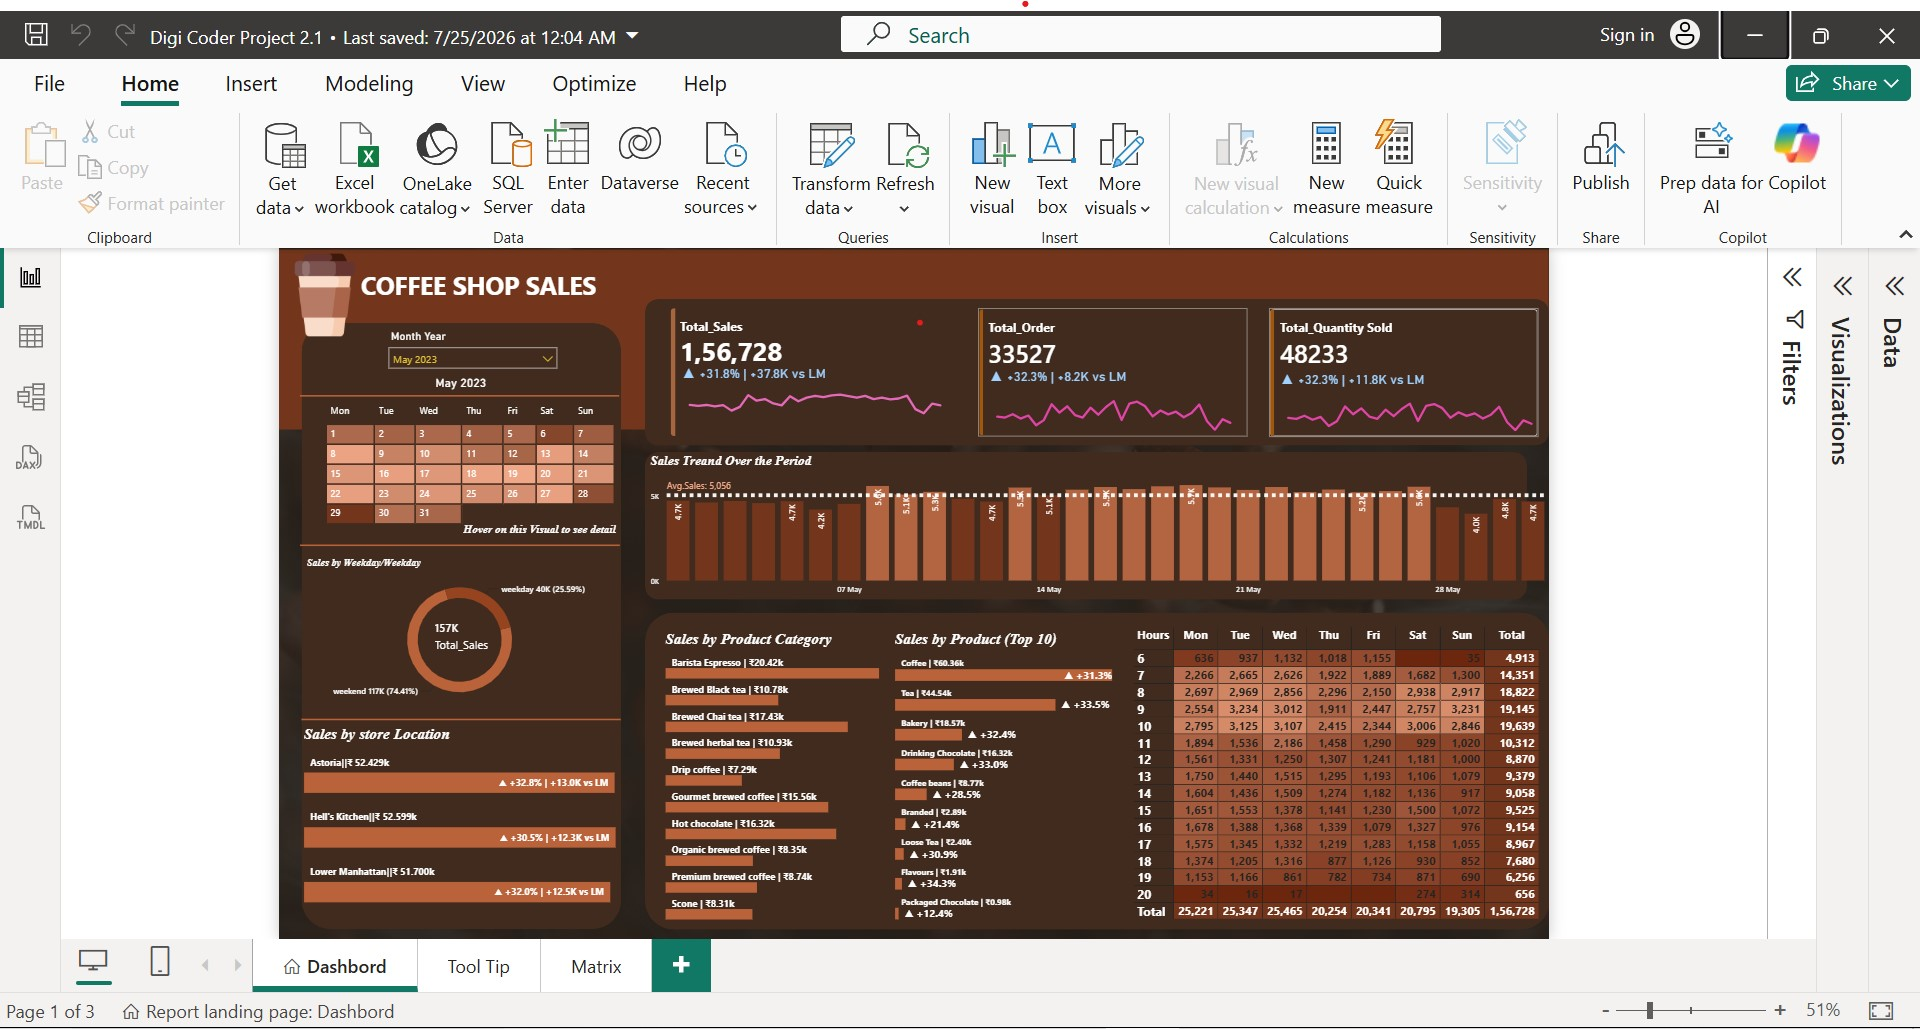

The dashboard page shown, as its layout file describes it:
{"tool":"powerbi","page":{"name":"Dashbord","canvas":[1658,902],"ordinal":0},"visuals":[{"type":"shape","box":[0,2.5,1657.5,235],"z":0},{"type":"shape","box":[28.8,98.8,417.5,791.2],"z":1000},{"type":"shape","box":[477.5,66.2,1180,191.2],"z":2000},{"type":"textbox","box":[102.5,22.5,337.5,57.5],"z":3000},{"type":"cardVisual","fields":{"Data":["Transaction.Total_Sales"]},"box":[498.8,66.2,383.8,191.2],"z":4000,"group":"g1"},{"type":"cardVisual","fields":{"Data":["Transaction.Total_Order"]},"box":[900,66.2,375,191.2],"z":4000,"group":"g2"},{"type":"cardVisual","fields":{"Data":["Transaction.Total_Quantity Sold"]},"box":[1281.2,66.2,375.2,192.4],"z":4000,"group":"g3"},{"type":"slicer","fields":{"Values":["Date_Table.Month Year"]},"box":[133.8,102.5,240,60],"z":4000},{"type":"group","id":"g1","title":"Group 1","box":[498.8,66.2,383.8,191.2],"z":5000},{"type":"group","id":"g2","title":"Group 1","box":[900,66.2,375,191.2],"z":6000},{"type":"lineChart","fields":{"Category":["Date_Table.Date.Variation.Date Hierarchy.Year","Date_Table.Date.Variation.Date Hierarchy.Quarter","Date_Table.Date.Variation.Date Hierarchy.Month","Date_Table.Date.Variation.Date Hierarchy.Day"],"Y":["Transaction.Total_Sales"]},"box":[520.8,152.7,357.3,82.6],"z":6000,"group":"g1"},{"type":"lineChart","fields":{"Category":["Date_Table.Date.Variation.Date Hierarchy.Year","Date_Table.Date.Variation.Date Hierarchy.Quarter","Date_Table.Date.Variation.Date Hierarchy.Month","Date_Table.Date.Variation.Date Hierarchy.Day"],"Y":["Transaction.Total_Order"]},"box":[921.1,156.3,334.3,87.1],"z":6000,"group":"g2"},{"type":"lineChart","fields":{"Category":["Date_Table.Date.Variation.Date Hierarchy.Year","Date_Table.Date.Variation.Date Hierarchy.Quarter","Date_Table.Date.Variation.Date Hierarchy.Month","Date_Table.Date.Variation.Date Hierarchy.Day"],"Y":["Transaction.Total_Order"]},"box":[1302.9,159.5,347.6,83.6],"z":6000,"group":"g3"},{"type":"group","id":"g3","title":"Group 1","box":[1281.2,66.2,375,192.5],"z":7000},{"type":"pivotTable","fields":{"Rows":["Date_Table.Week_Number"],"Columns":["Date_Table.Day_Name"],"Values":["Min(Date_Table.Day_Number)"]},"box":[31.7,195.8,413.3,184.2],"z":8000},{"type":"image","box":[5,0,107.5,122.5],"z":9000},{"type":"donutChart","title":"Sales by Weekday/Weekday","fields":{"Category":["Date_Table.Weekday/Weekday"],"Y":["Transaction.Total_Sales"]},"box":[31.7,402.5,408.3,200.8],"z":10000},{"type":"cardVisual","fields":{"Data":["Transaction.Total_Sales"]},"box":[175,461.7,131.7,88.3],"z":11000},{"type":"card","fields":{"Values":["Min(Date_Table.Month Year)"]},"box":[196.7,161.7,82.5,26.7],"z":12000},{"type":"clusteredBarChart","title":"Sales by store Location","fields":{"Category":["Transaction.store_location"],"Y":["Transaction.Location","Transaction.Total_Sales"]},"box":[28.3,623.3,416.7,240],"z":13000},{"type":"shape","box":[478.6,267.1,1151.4,192.9],"z":14000},{"type":"clusteredColumnChart","title":"Sales Treand Over the Period","fields":{"Category":["Transaction.transaction_date"],"Y":["Transaction.Total_Sales"]},"box":[478.8,267.5,1178.8,192.5],"z":15000},{"type":"card","fields":{"Values":["Transaction.Note"]},"box":[234.2,354.2,210,25],"z":16000},{"type":"shape","box":[28.5,606.2,416.9,16.9],"z":17000},{"type":"shape","box":[28.3,187.5,416.7,10],"z":18000},{"type":"shape","box":[28.3,381.7,417.5,12.5],"z":19000},{"type":"shape","box":[477.5,476.2,1181,414],"z":19500},{"type":"clusteredBarChart","title":"Sales by Product (Top 10)","fields":{"Y":["Transaction.Location","Transaction.Total_Sales"],"Category":["Transaction.product_category"]},"box":[798.8,498.8,293.8,382.5],"z":20000},{"type":"clusteredBarChart","title":"Sales by Product Category","fields":{"Y":["Transaction.Location","Transaction.Total_Sales"],"Category":["Transaction.product_type"]},"box":[498.8,498.8,288.8,382.5],"z":21000},{"type":"pivotTable","fields":{"Rows":["Transaction.Hours"],"Columns":["Date_Table.Day_Name"],"Values":["Transaction.Total_Sales"]},"box":[1110,490,547.5,391.2],"z":22000}]}

Visuals, with their boxes on the page's 1658x902 design canvas (x1, y1, x2, y2). These are canvas units, not pixel positions in the 1920x1029 screenshot, which may show the page scaled, cropped or inside an application window:
shape: l=0, t=2, r=1658, b=238
shape: l=29, t=99, r=446, b=890
shape: l=478, t=66, r=1658, b=257
textbox: l=102, t=22, r=440, b=80
cardVisual - Transaction.Total_Sales: l=499, t=66, r=883, b=257
cardVisual - Transaction.Total_Order: l=900, t=66, r=1275, b=257
cardVisual - Transaction.Total_Quantity Sold: l=1281, t=66, r=1656, b=259
slicer - Date_Table.Month Year: l=134, t=102, r=374, b=162
"Group 1" group: l=499, t=66, r=883, b=257
"Group 1" group: l=900, t=66, r=1275, b=257
lineChart - Date_Table.Date.Variation.Date Hierarchy.Year x Date_Table.Date.Variation.Date Hierarchy.Quarter: l=521, t=153, r=878, b=235
lineChart - Date_Table.Date.Variation.Date Hierarchy.Year x Date_Table.Date.Variation.Date Hierarchy.Quarter: l=921, t=156, r=1255, b=243
lineChart - Date_Table.Date.Variation.Date Hierarchy.Year x Date_Table.Date.Variation.Date Hierarchy.Quarter: l=1303, t=160, r=1650, b=243
"Group 1" group: l=1281, t=66, r=1656, b=259
pivotTable - Date_Table.Week_Number x Date_Table.Day_Name: l=32, t=196, r=445, b=380
image: l=5, t=0, r=112, b=122
"Sales by Weekday/Weekday" donutChart: l=32, t=402, r=440, b=603
cardVisual - Transaction.Total_Sales: l=175, t=462, r=307, b=550
card - Min(Date_Table.Month Year): l=197, t=162, r=279, b=188
"Sales by store Location" clusteredBarChart: l=28, t=623, r=445, b=863
shape: l=479, t=267, r=1630, b=460
"Sales Treand Over the Period" clusteredColumnChart: l=479, t=268, r=1658, b=460
card - Transaction.Note: l=234, t=354, r=444, b=379
shape: l=28, t=606, r=445, b=623
shape: l=28, t=188, r=445, b=198
shape: l=28, t=382, r=446, b=394
shape: l=478, t=476, r=1658, b=890
"Sales by Product (Top 10)" clusteredBarChart: l=799, t=499, r=1093, b=881
"Sales by Product Category" clusteredBarChart: l=499, t=499, r=788, b=881
pivotTable - Transaction.Hours x Date_Table.Day_Name: l=1110, t=490, r=1658, b=881
